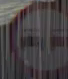No overtake: (11, 16, 62, 58)
